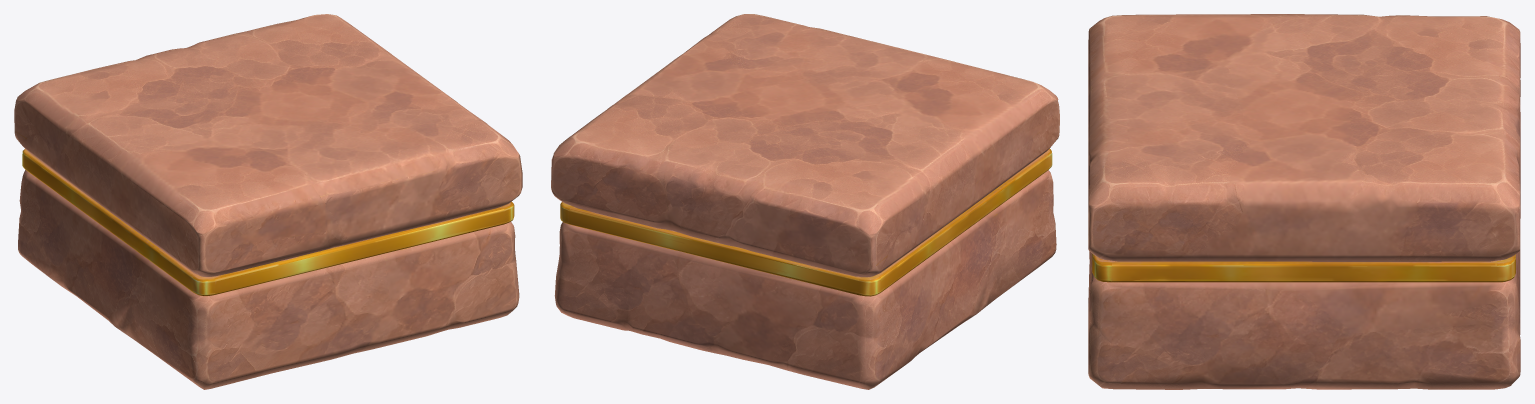
The model's file is corner.glb.
3 renders of one model, left to right at view 1: azimuth 30°, elevation 25°; view 2: azimuth 150°, elevation 25°; view 3: azimuth 270°, elevation 25°, orthographic. The views are drawn at different scales.
Visible parts, largest first — view 1: Mesh_0; view 2: Mesh_0; view 3: Mesh_0.
Boxes of the visible parts, x1,y1,x2,y2 form: Mesh_0: [14, 14, 522, 389]; Mesh_0: [551, 14, 1059, 389]; Mesh_0: [1088, 14, 1520, 389].
Size of the model in its own units: 0.72 by 0.39 by 0.72.
Materials: 1 (1 with a texture image).
